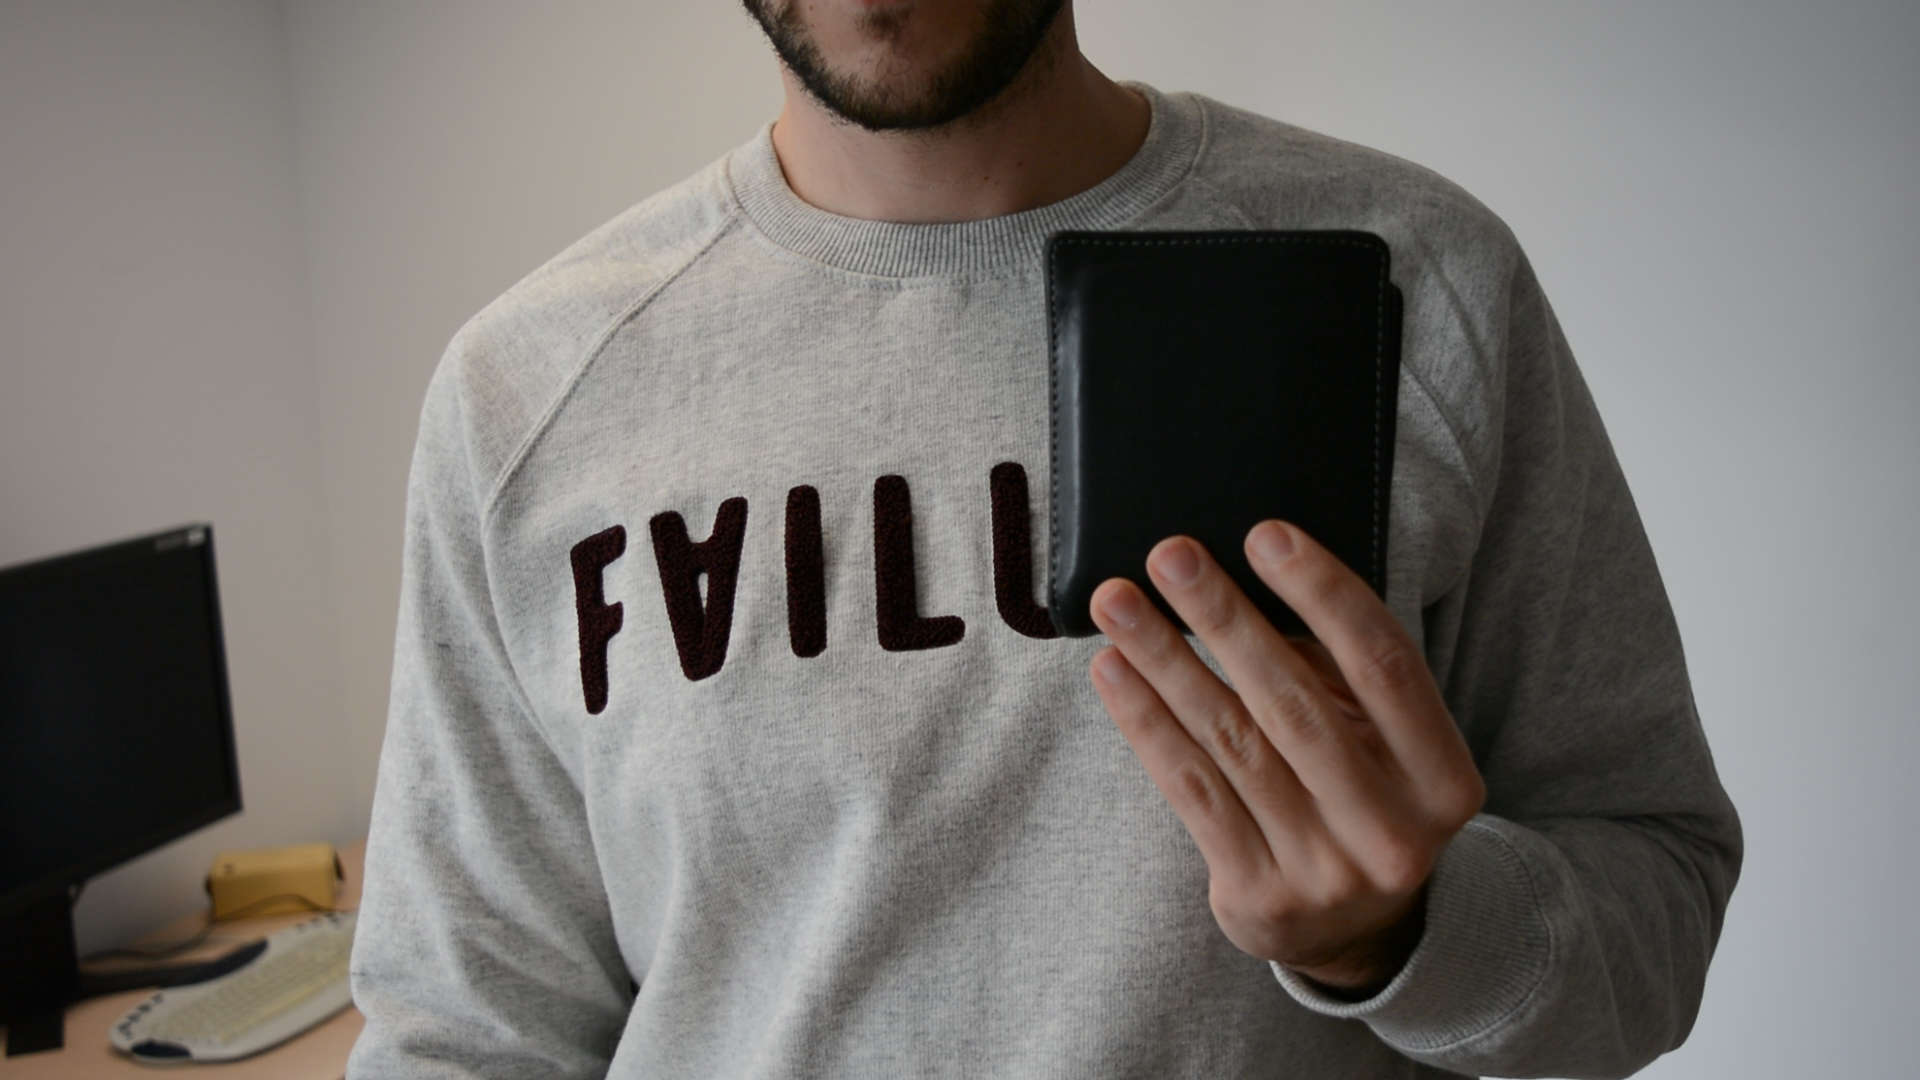monedero: (1040, 228, 1407, 642)
